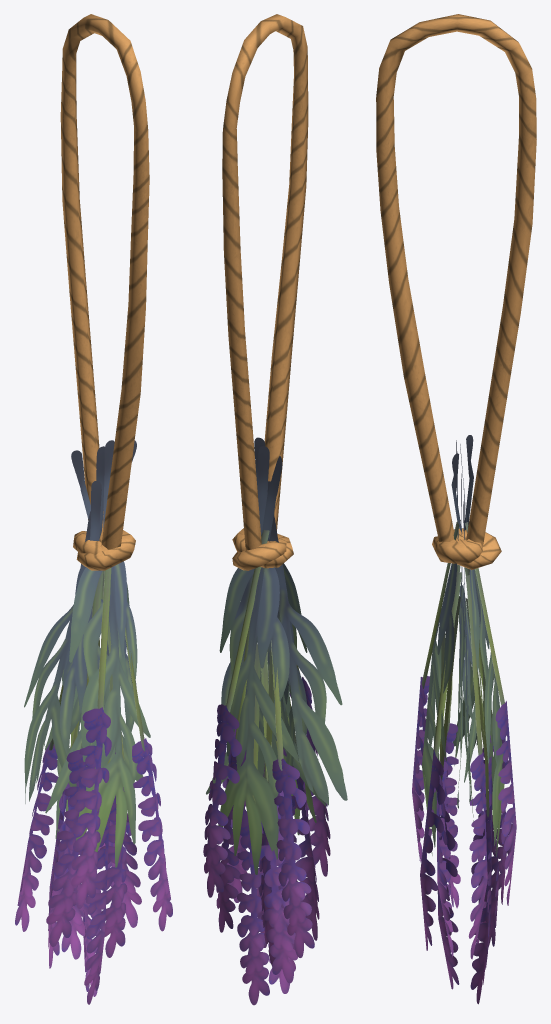
File: SM_Potion_Props_Herb_Broom_Ceiling_03.fbx
3 renders of one model, left to right at view 1: azimuth 30°, elevation 25°; view 2: azimuth 150°, elevation 25°; view 3: azimuth 270°, elevation 25°, orthographic.
Visible parts, largest first — view 1: SM_Potion_Props_Herb_Broom_Ceiling_03_LOD0; view 2: SM_Potion_Props_Herb_Broom_Ceiling_03_LOD0; view 3: SM_Potion_Props_Herb_Broom_Ceiling_03_LOD0.
Part boxes in pixels (x1,y1,x2,y2): SM_Potion_Props_Herb_Broom_Ceiling_03_LOD0: [15, 14, 172, 1004]; SM_Potion_Props_Herb_Broom_Ceiling_03_LOD0: [203, 14, 347, 1005]; SM_Potion_Props_Herb_Broom_Ceiling_03_LOD0: [376, 14, 536, 1004].
Size of what is drawn, in the model's own units: 16.89 by 115 by 16.85.
